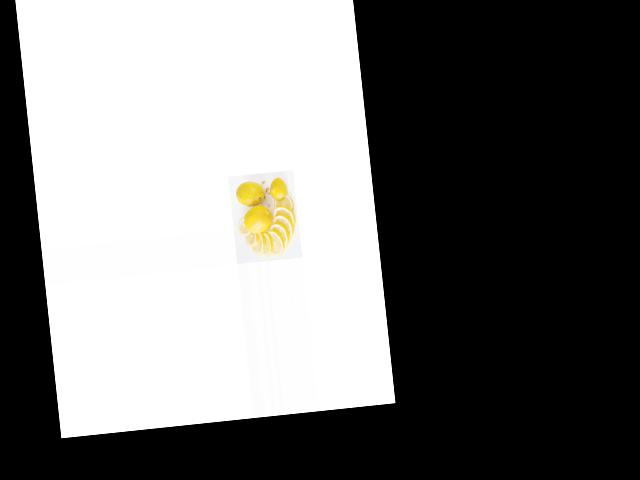lemon: (266, 177, 287, 199)
